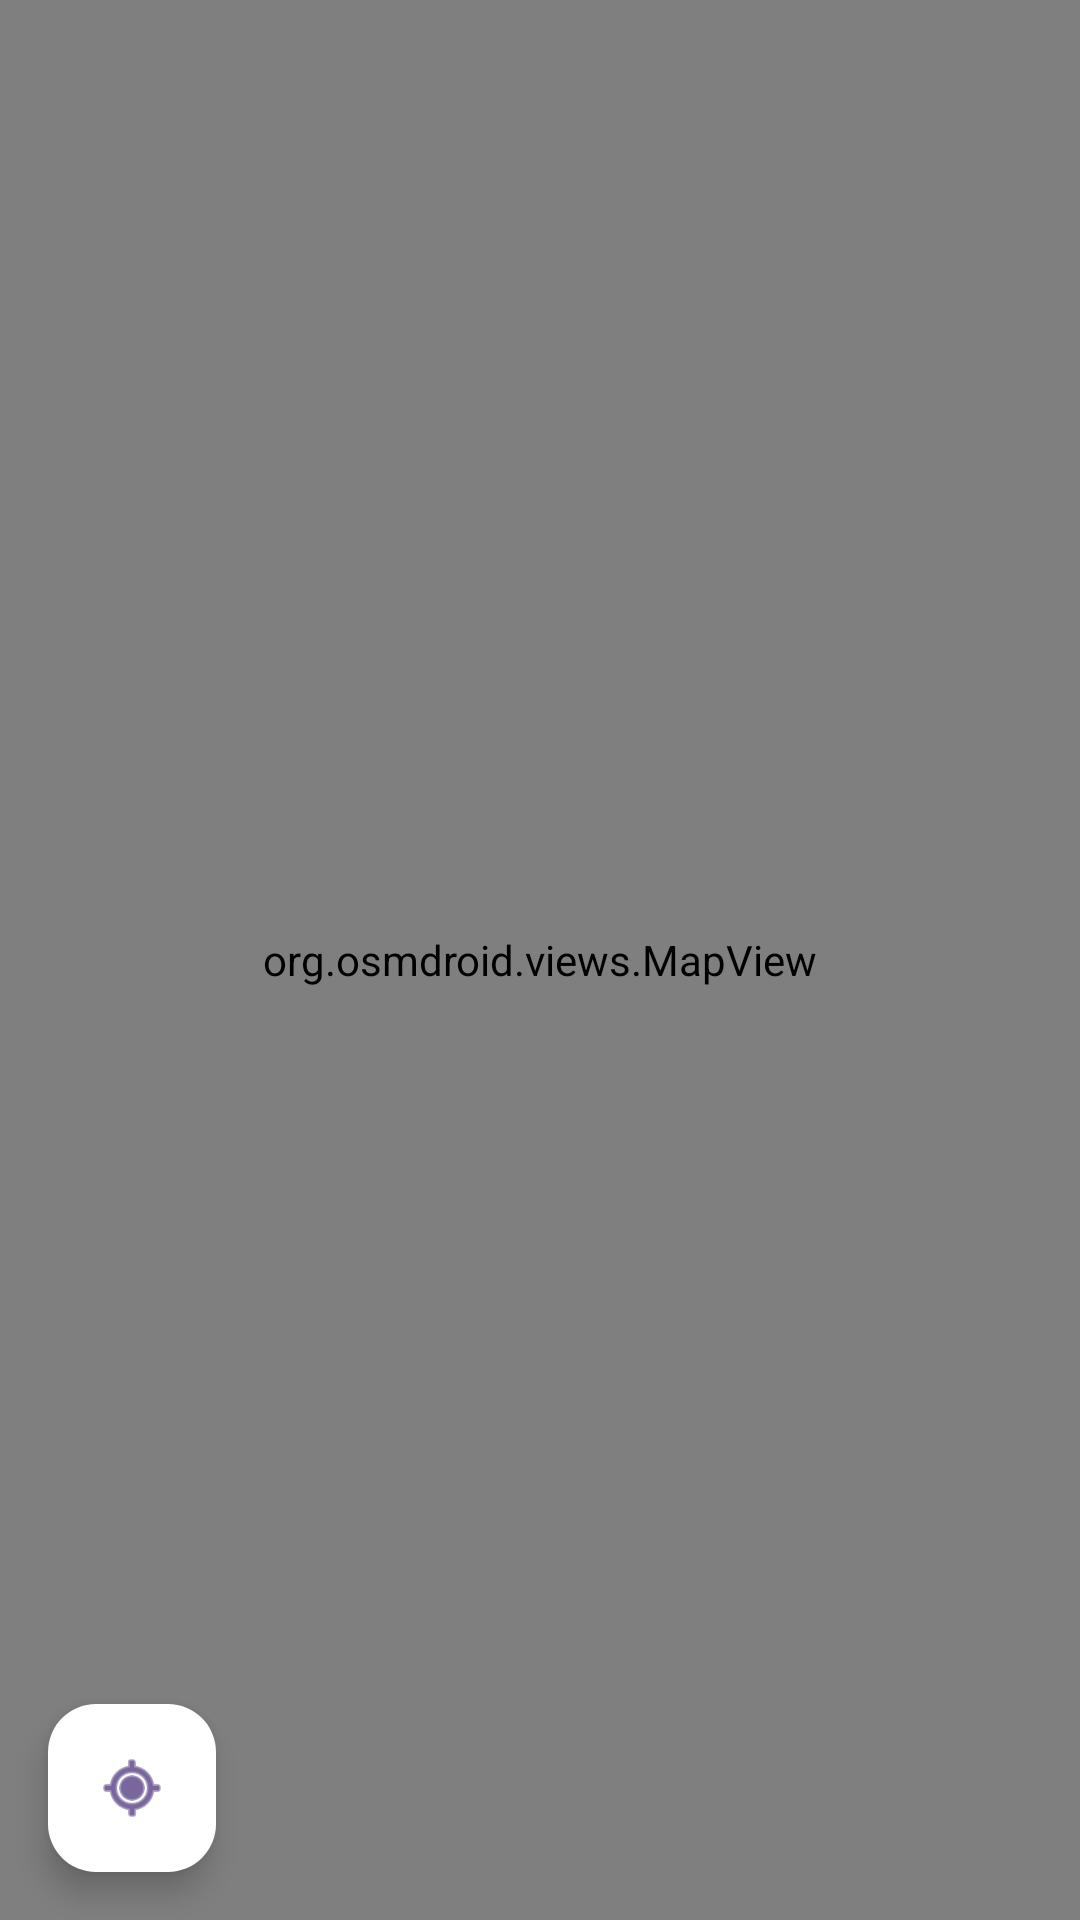

Where to tap for icons on this 1080x1920 app screen, as (x,y):
mylocation: (132,1788)
